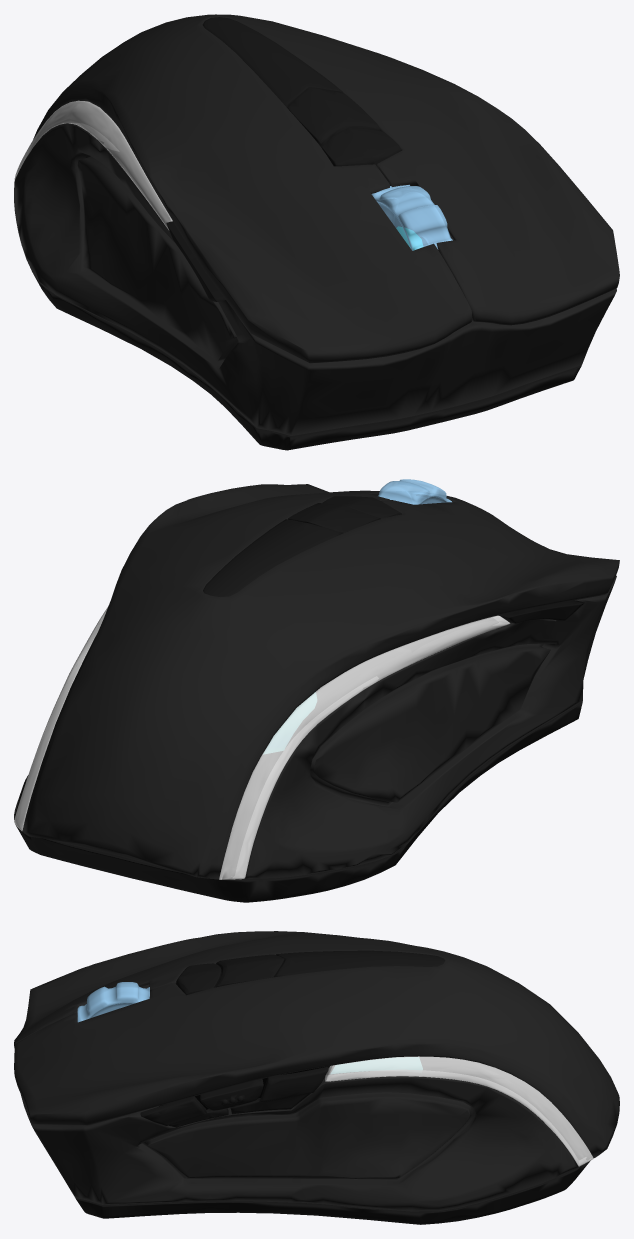
Rendered from mouse_gaming.glb.
3 renders of one model, top to bottom at view 1: azimuth 30°, elevation 25°; view 2: azimuth 150°, elevation 25°; view 3: azimuth 270°, elevation 25°, orthographic. The views are drawn at different scales.
Parts seen in each view (by area): view 1: Mouse_Sides_RubberTop.001_0, Mouse_TopButtons_BlackGlossyPlastic.001_0, Mouse_Light_Left_GlassPlastic_0, Mouse_Wheel_WheelRubber_0, Mouse_SideRIghtButton_BlackGlossyPlastic_0; view 2: Mouse_Sides_RubberTop.001_0, Mouse_TopButtons_BlackGlossyPlastic.001_0, Mouse_Light_Left_GlassPlastic_0, Mouse_Wheel_WheelRubber_0, Mouse_SideRIghtButton_BlackGlossyPlastic_0, Icosphere_Light Inside_0; view 3: Mouse_Sides_RubberTop.001_0, Mouse_TopButtons_BlackGlossyPlastic.001_0, Mouse_Light_Left_GlassPlastic_0, Mouse_Wheel_WheelRubber_0, Icosphere_Light Inside_0.
Part boxes in pixels (x1,y1,x2,y2): Mouse_Sides_RubberTop.001_0: [14, 14, 619, 435]; Mouse_TopButtons_BlackGlossyPlastic.001_0: [28, 17, 581, 450]; Mouse_Light_Left_GlassPlastic_0: [14, 100, 172, 229]; Mouse_Wheel_WheelRubber_0: [371, 184, 452, 250]; Mouse_SideRIghtButton_BlackGlossyPlastic_0: [166, 221, 225, 301]; Mouse_Sides_RubberTop.001_0: [14, 484, 619, 879]; Mouse_TopButtons_BlackGlossyPlastic.001_0: [15, 496, 582, 902]; Mouse_Light_Left_GlassPlastic_0: [14, 606, 510, 879]; Mouse_Wheel_WheelRubber_0: [378, 479, 451, 504]; Mouse_SideRIghtButton_BlackGlossyPlastic_0: [498, 600, 584, 623]; Icosphere_Light Inside_0: [264, 693, 316, 753]; Mouse_Sides_RubberTop.001_0: [14, 931, 619, 1211]; Mouse_TopButtons_BlackGlossyPlastic.001_0: [75, 950, 589, 1224]; Mouse_Light_Left_GlassPlastic_0: [325, 1056, 593, 1166]; Mouse_Wheel_WheelRubber_0: [77, 982, 149, 1022]; Icosphere_Light Inside_0: [331, 1057, 422, 1073].
Bounding box in the file's own units: 6.32 × 4.08 × 11.03.
